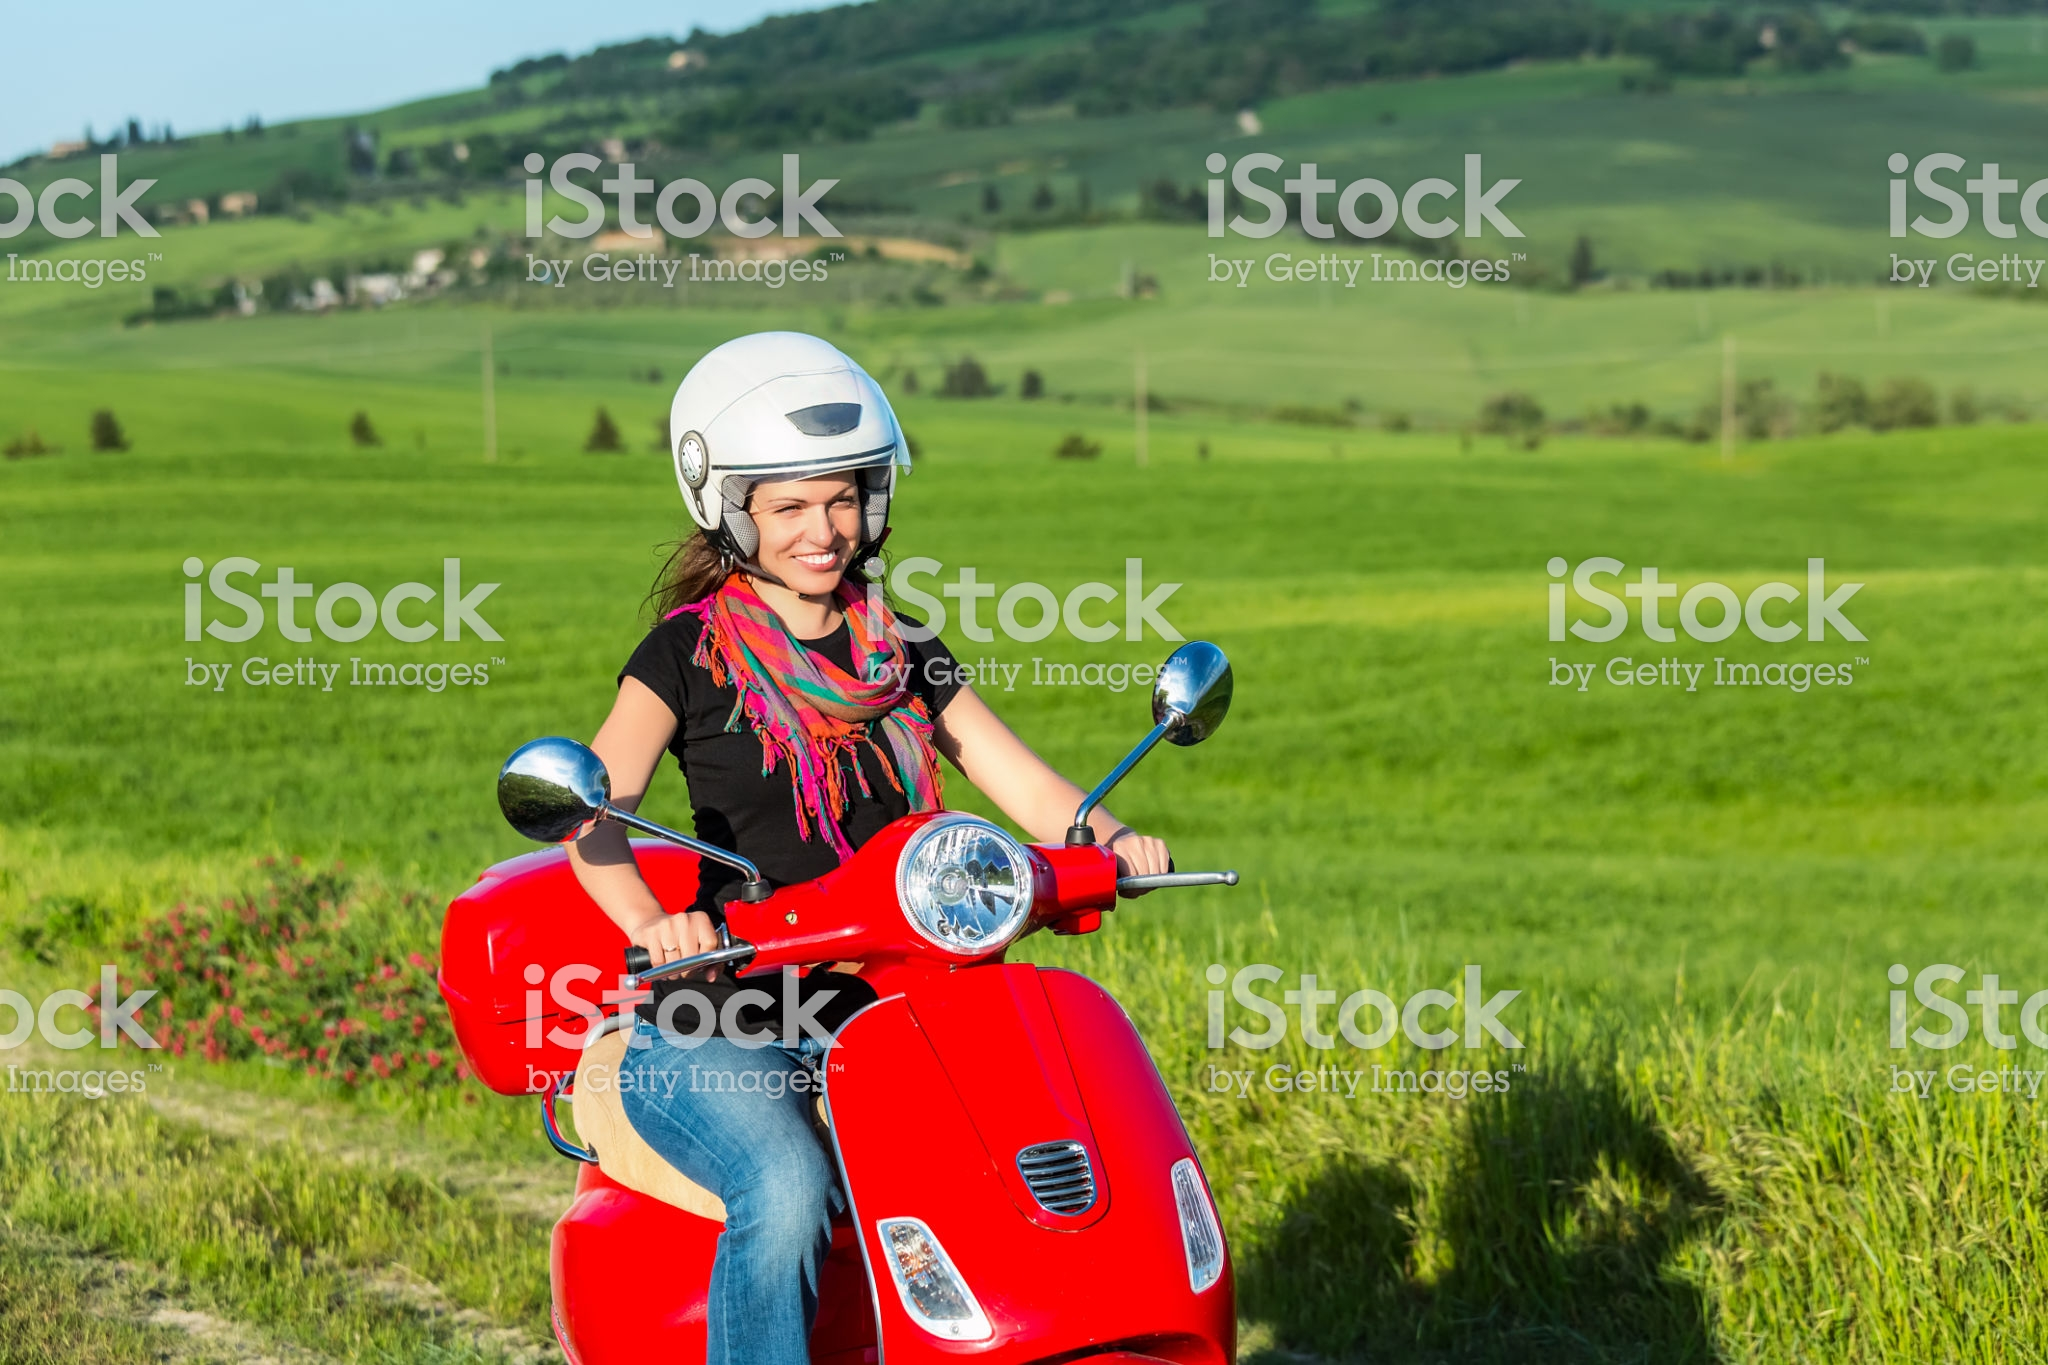helmet: (636, 318, 898, 497)
